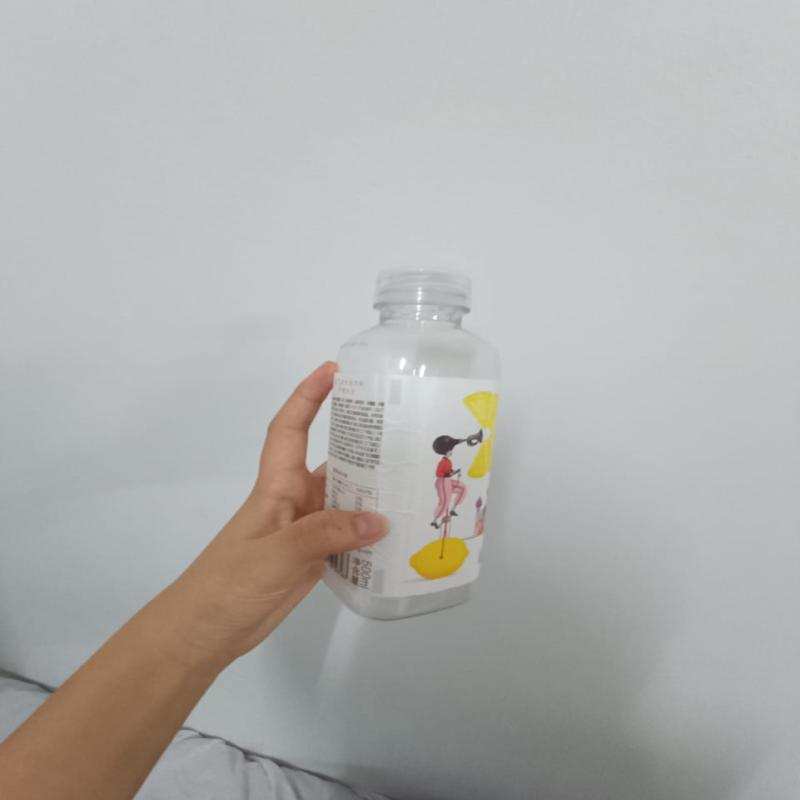botella: (326, 264, 497, 620)
